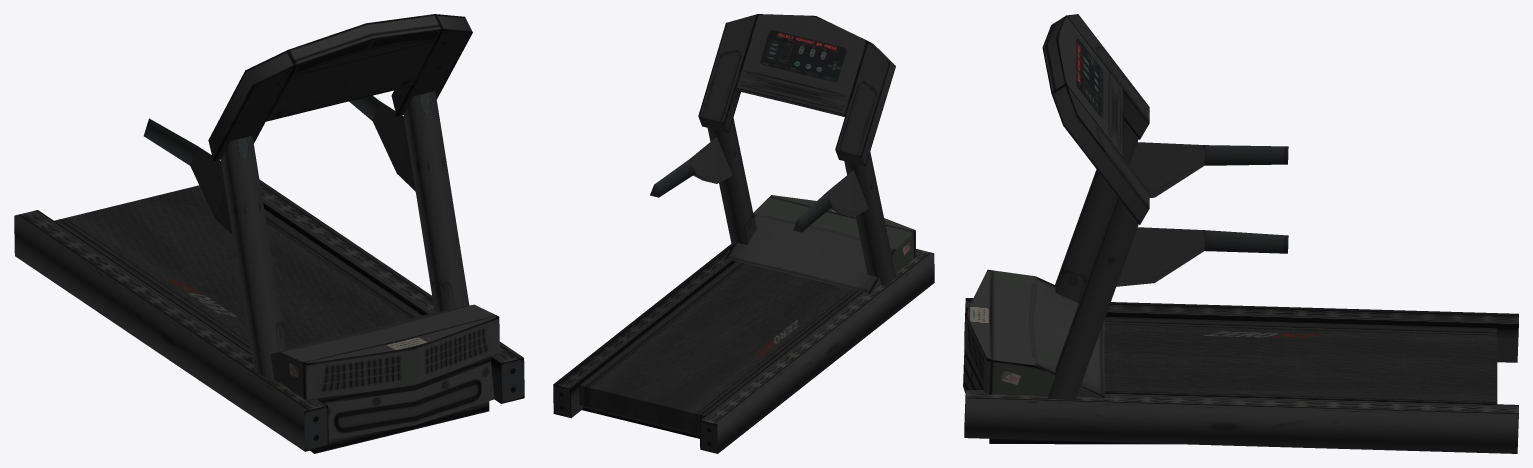
File: treadmill_lod2.glb
The picture shows the model from 3 angles, left to right: view 1: azimuth 30°, elevation 25°; view 2: azimuth 150°, elevation 25°; view 3: azimuth 270°, elevation 25°; orthographic projection. The views are drawn at different scales.
Parts seen in each view (by area): view 1: surf0; view 2: surf0; view 3: surf0.
Part boxes in pixels (x1,y1,x2,y2): surf0: [14, 14, 524, 453]; surf0: [553, 14, 934, 453]; surf0: [963, 14, 1518, 453].
Bounding box in the file's own units: 40.13 × 66.89 × 92.23.
